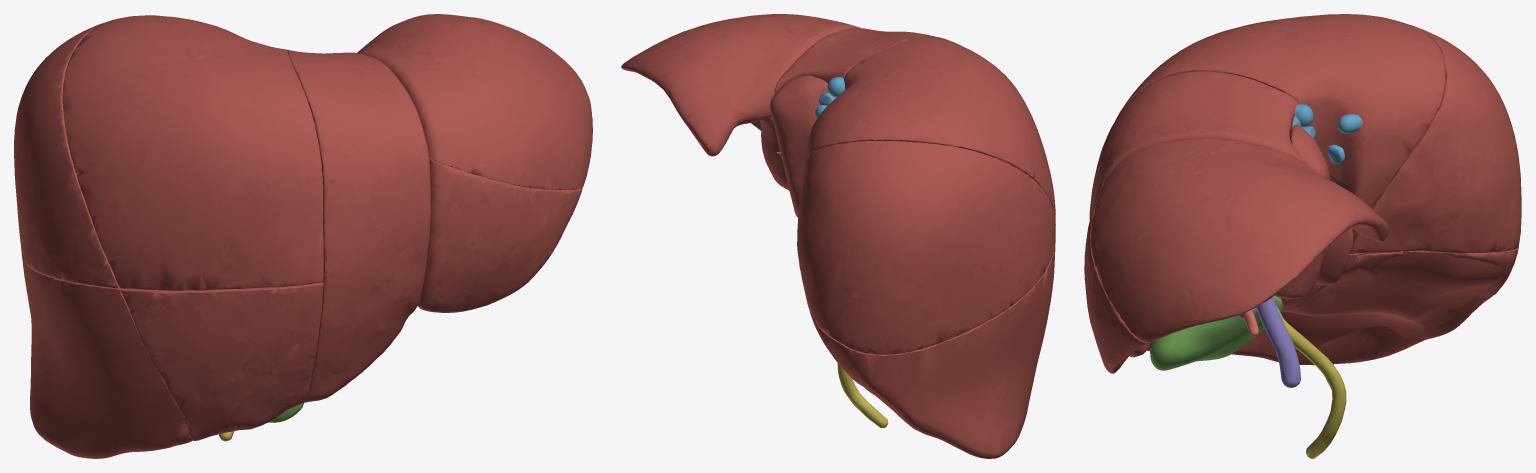
The model's file is liver.glb.
3 views of the same model, side by side, from view 1: azimuth 30°, elevation 25°; view 2: azimuth 150°, elevation 25°; view 3: azimuth 270°, elevation 25° (orthographic). The views are drawn at different scales.
Parts seen in each view (by area): view 1: liver; view 2: liver, biliary, hepatic-veins; view 3: liver, gallbladder, biliary, portal, hepatic-veins.
Part boxes in pixels (left/top/right/bottom): liver: left=14, top=14, right=592, bottom=458; liver: left=621, top=14, right=1055, bottom=458; biliary: left=837, top=363, right=888, bottom=427; hepatic-veins: left=815, top=77, right=845, bottom=118; liver: left=1084, top=14, right=1521, bottom=373; gallbladder: left=1150, top=295, right=1282, bottom=370; biliary: left=1256, top=307, right=1346, bottom=458; portal: left=1236, top=296, right=1300, bottom=387; hepatic-veins: left=1292, top=104, right=1362, bottom=163.
Size of the model in its own units: 4.19 by 3.27 by 3.18.
